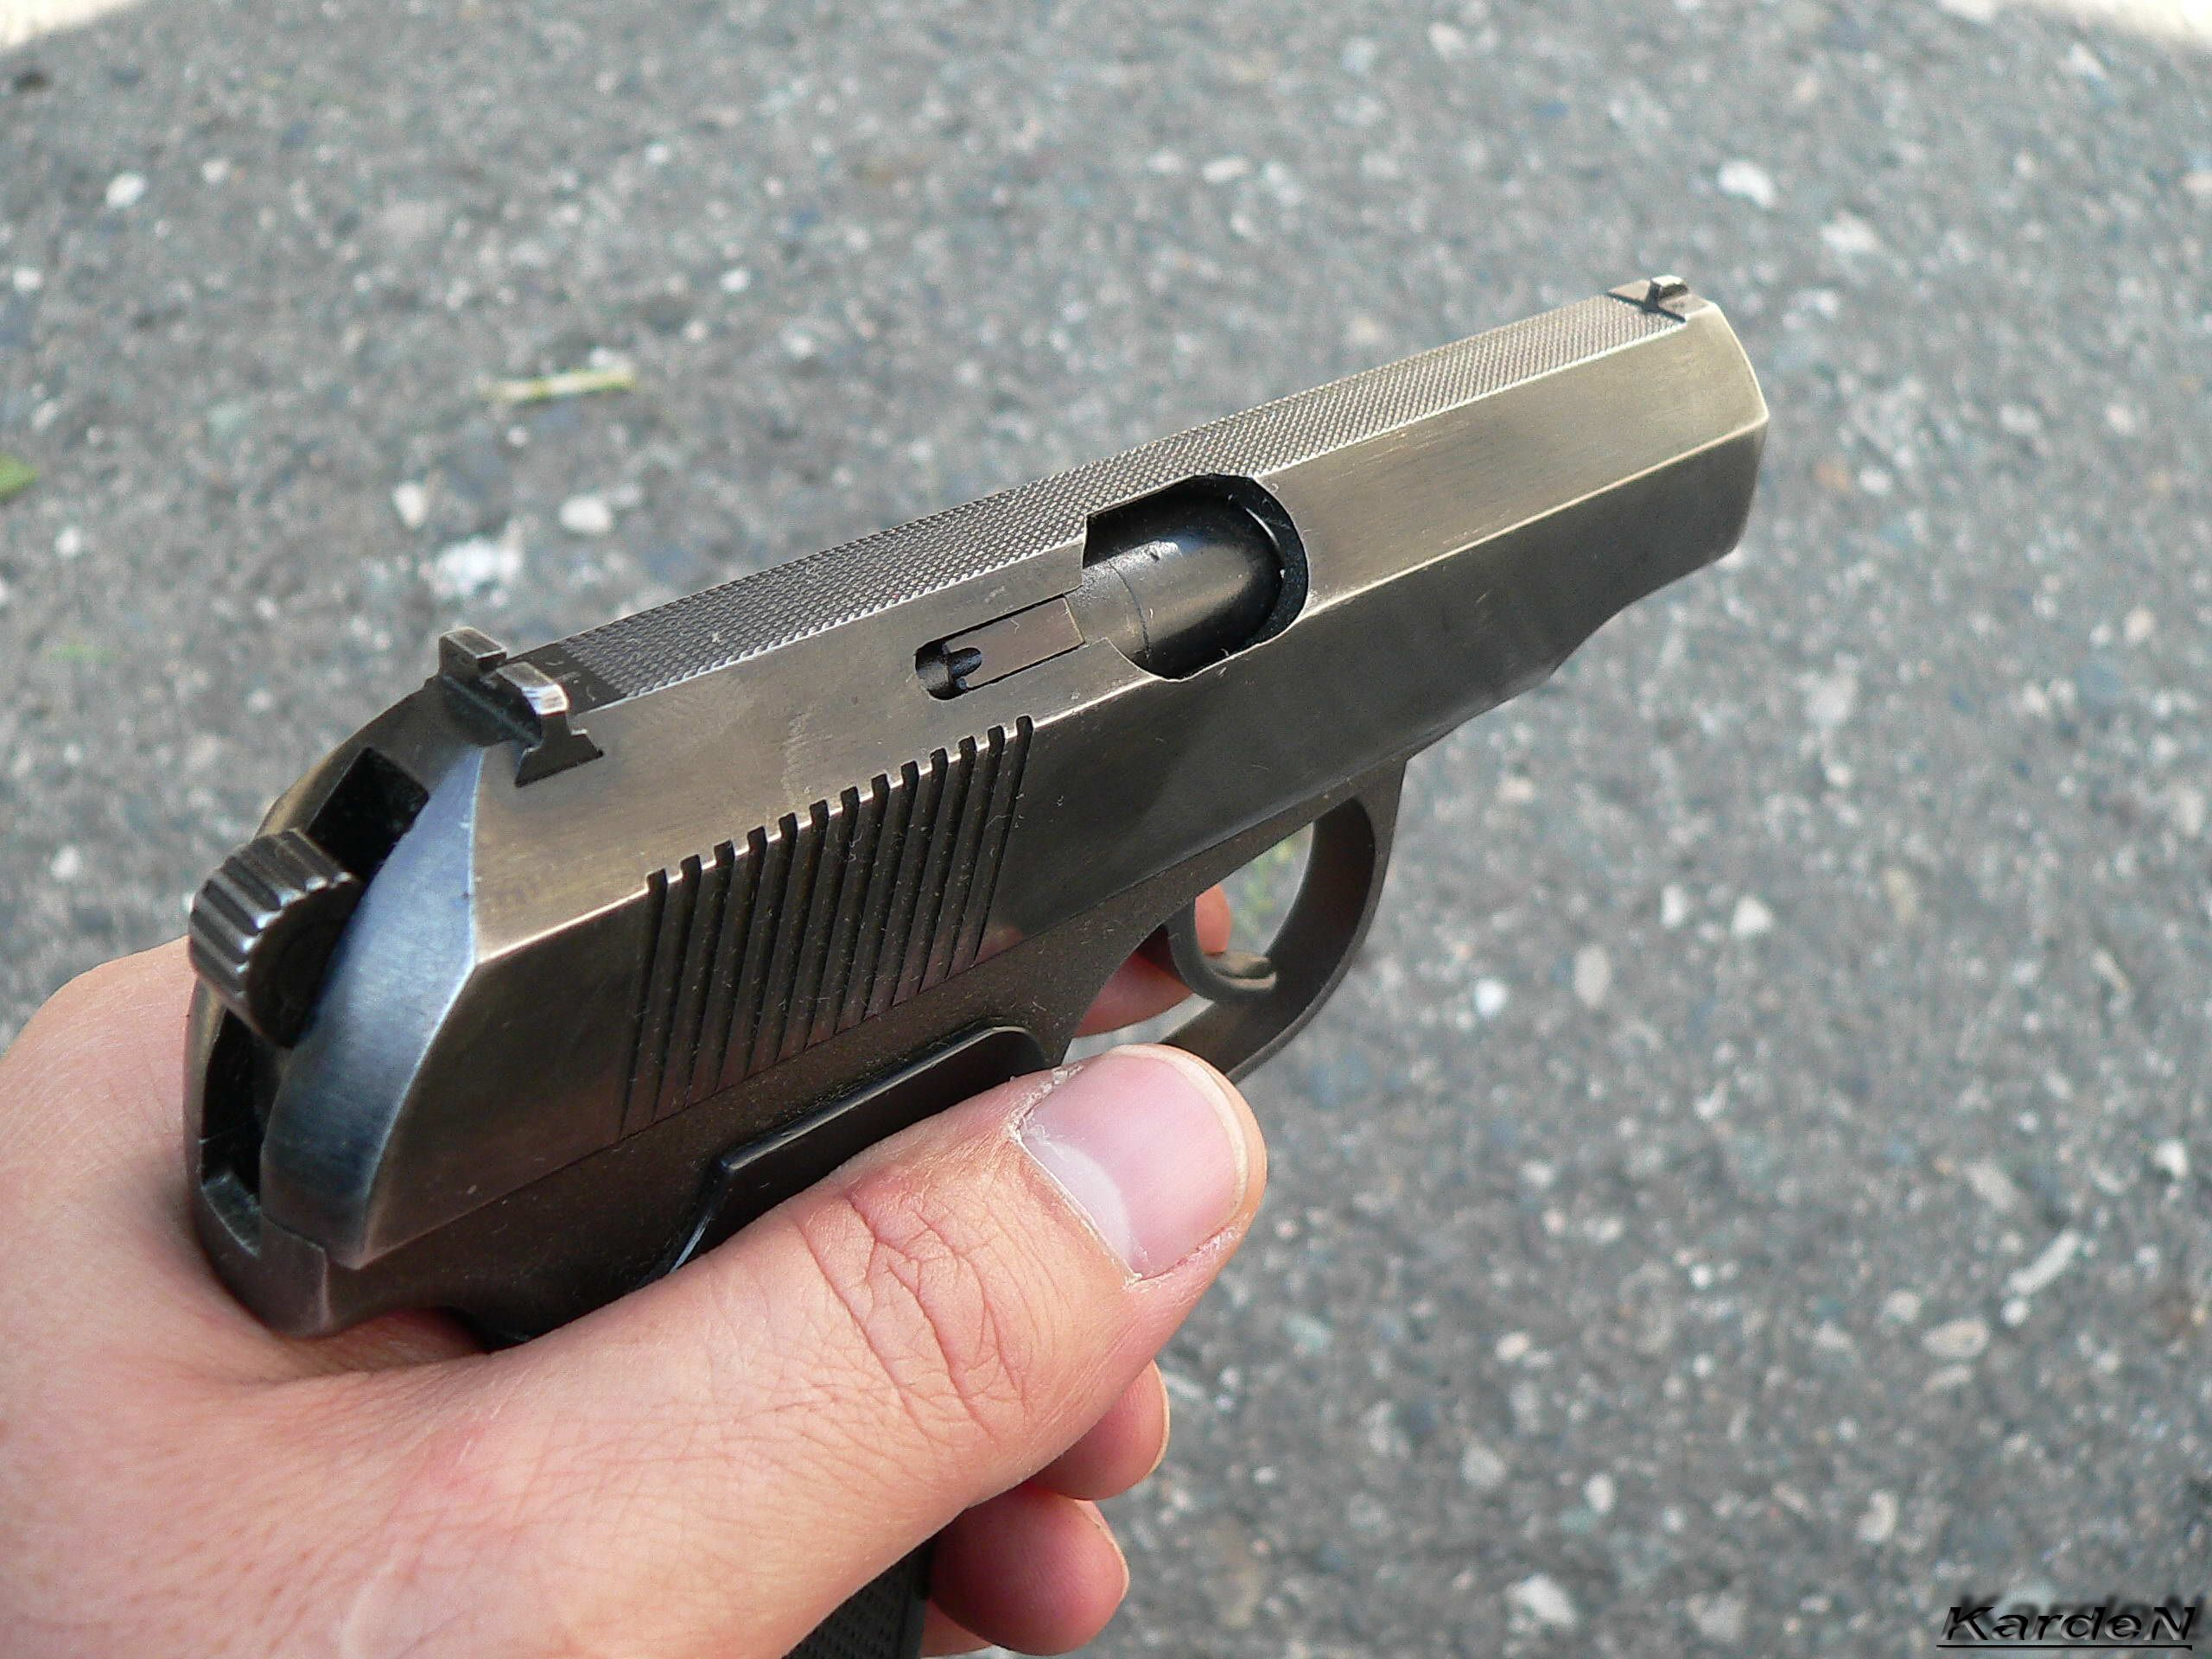gun: (153, 220, 1792, 1453)
